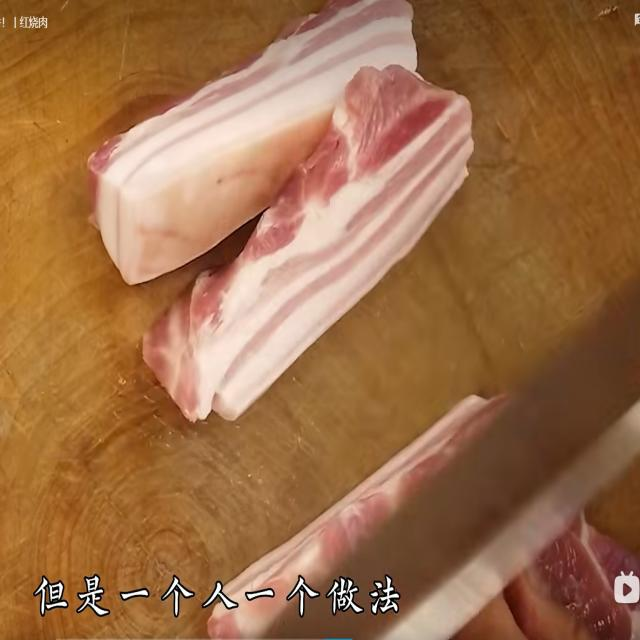pork: (143, 52, 481, 422), (63, 0, 408, 268)
